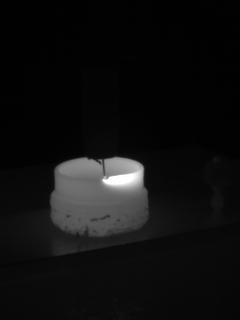tip_wire_left: (84, 154, 106, 179)
tip_wire_right: (103, 152, 118, 179)
